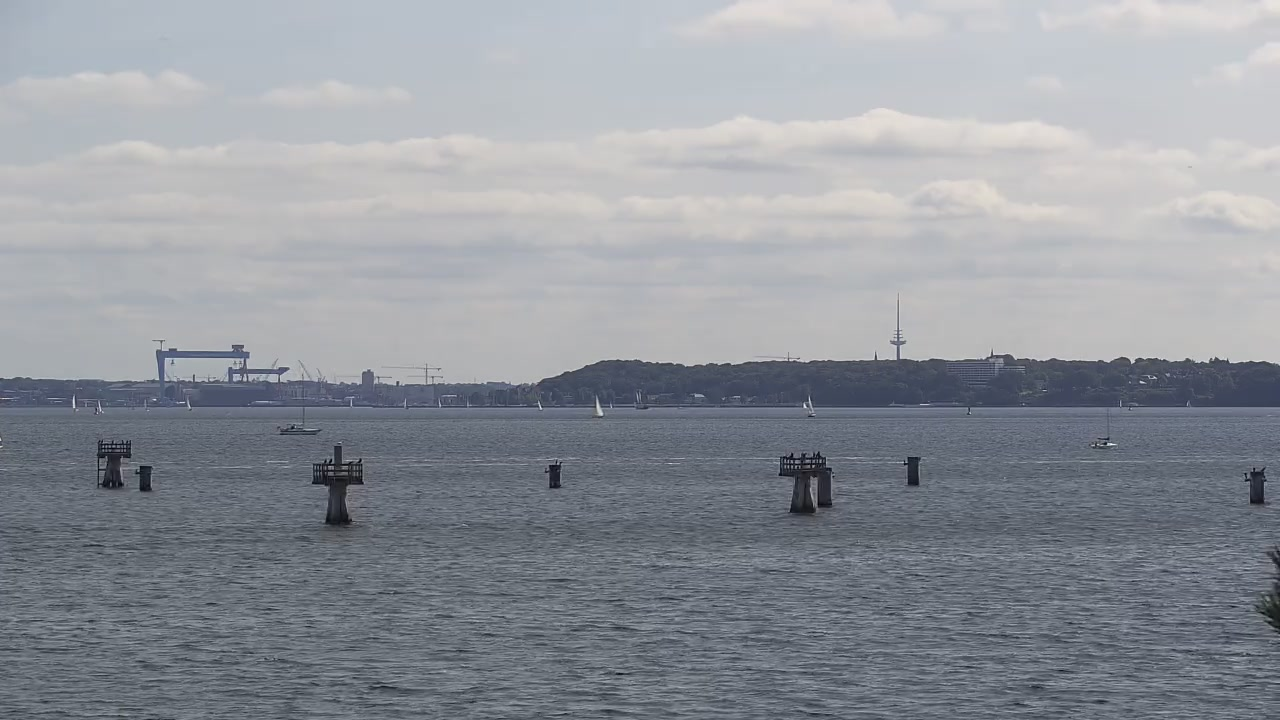sea: (276, 372, 322, 435), (1089, 407, 1120, 449), (592, 393, 605, 418), (634, 390, 648, 410), (808, 393, 817, 417), (72, 393, 80, 413), (94, 399, 104, 415), (185, 395, 192, 411), (143, 398, 150, 412), (536, 399, 544, 411), (402, 396, 408, 409), (1187, 399, 1192, 407), (803, 401, 808, 408)
